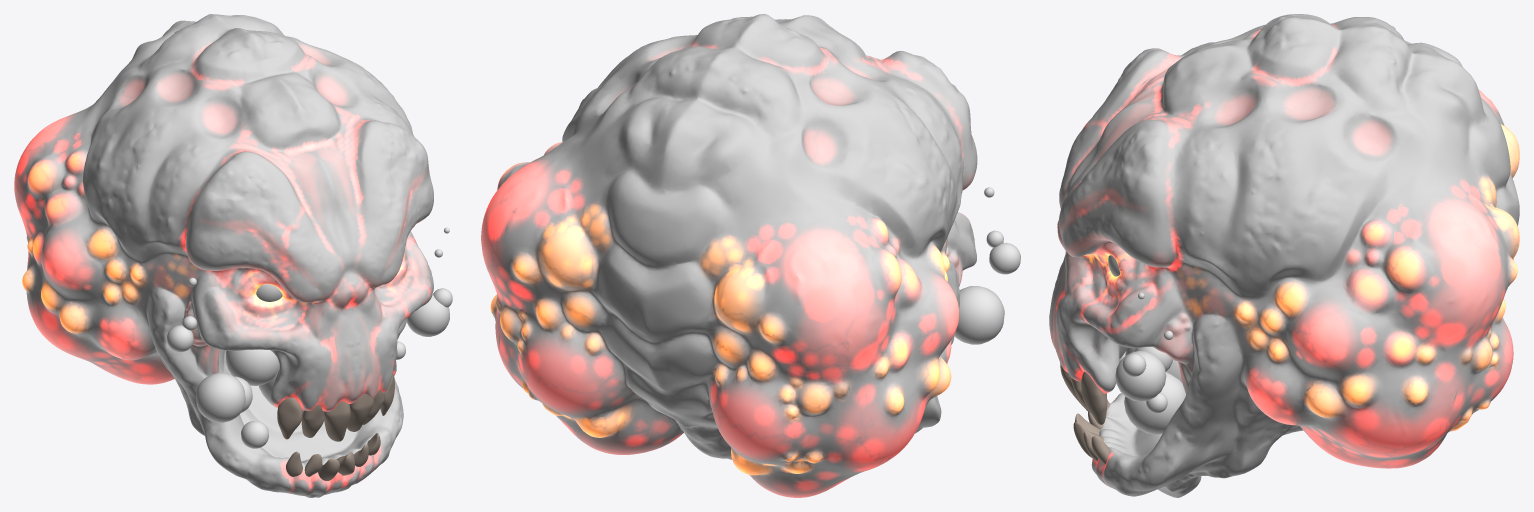
File: DEMON.fbx
3 views of the same model, side by side, from view 1: azimuth 30°, elevation 25°; view 2: azimuth 150°, elevation 25°; view 3: azimuth 270°, elevation 25° (orthographic). The views are drawn at different scales.
Visible parts, largest first — view 1: CABEZA; view 2: CABEZA; view 3: CABEZA.
Part boxes in pixels (bbox=[...]): CABEZA: bbox=[14, 14, 452, 497]; CABEZA: bbox=[481, 14, 1020, 497]; CABEZA: bbox=[1049, 14, 1519, 497].
Size of the model in its own units: 547 by 598 by 533.
